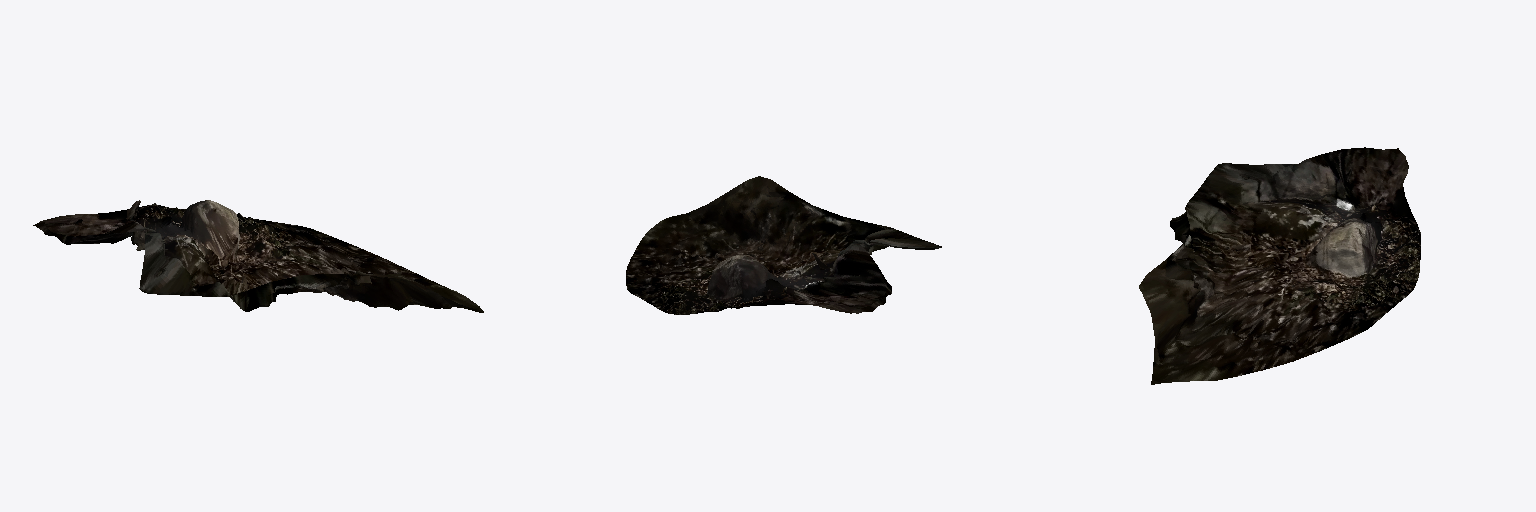
3 renders of one model, left to right at view 1: azimuth 30°, elevation 25°; view 2: azimuth 150°, elevation 25°; view 3: azimuth 270°, elevation 25°, orthographic.
Bounding box in the file's own units: 2.95 × 0.8409 × 2.19.
1 materials, 1 textured.